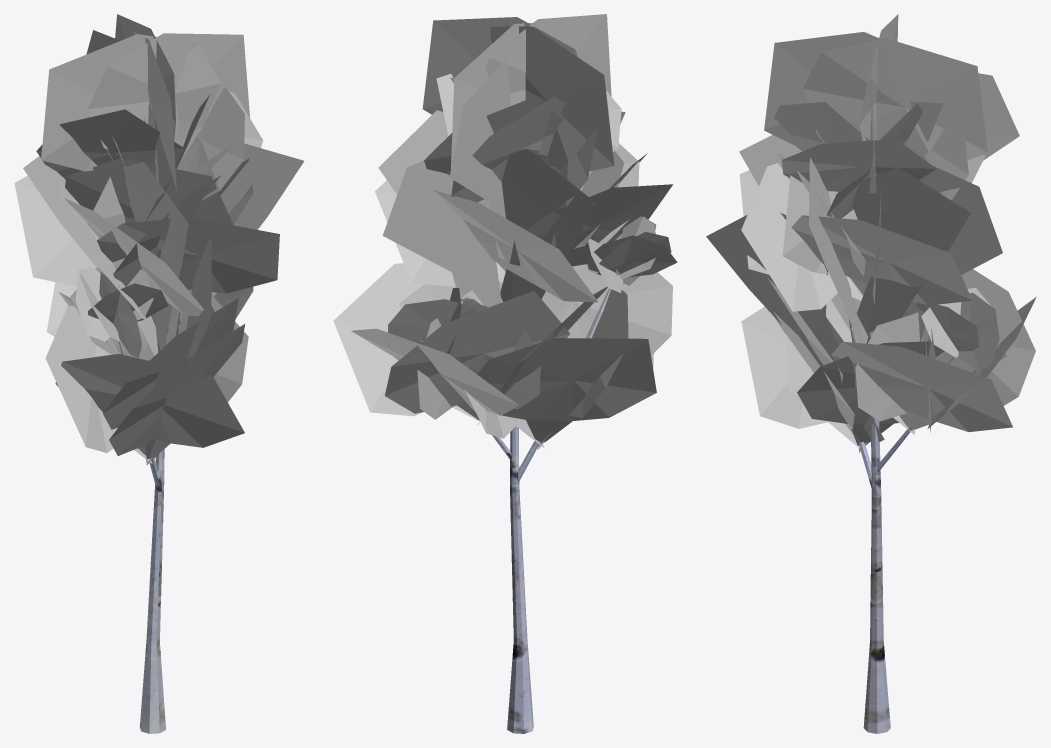
File: Birch_003.fbx
3 views of the same model, side by side, from view 1: azimuth 30°, elevation 25°; view 2: azimuth 150°, elevation 25°; view 3: azimuth 270°, elevation 25° (orthographic). The views are drawn at different scales.
Parts seen in each view (by area): view 1: Tree_Birch_Leaves3, Tree_Birch_Trunk3; view 2: Tree_Birch_Leaves3, Tree_Birch_Trunk3; view 3: Tree_Birch_Leaves3, Tree_Birch_Trunk3.
Part boxes in pixels (box(x1,y1,x2,y2)): Tree_Birch_Leaves3: box(14, 14, 303, 465); Tree_Birch_Trunk3: box(102, 110, 181, 733); Tree_Birch_Leaves3: box(333, 14, 677, 449); Tree_Birch_Trunk3: box(492, 288, 610, 733); Tree_Birch_Leaves3: box(706, 14, 1036, 452); Tree_Birch_Trunk3: box(849, 319, 979, 733).
Bounding box in the file's own units: 909 × 2484 × 1078.
